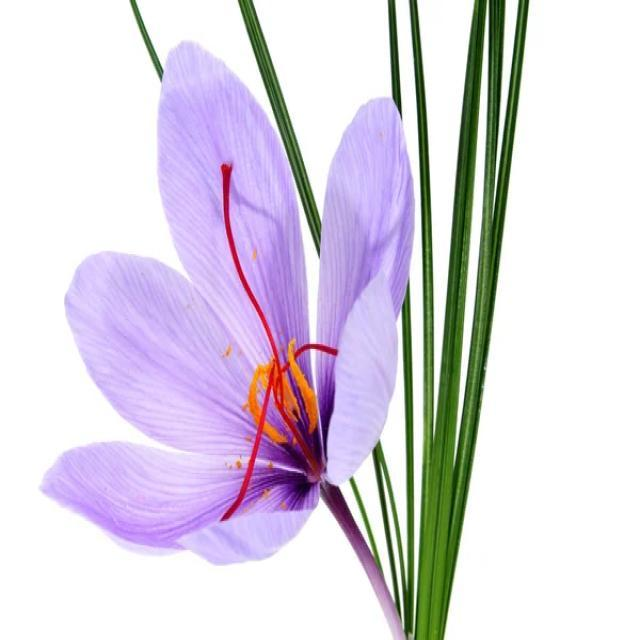Flower: (104, 112, 398, 556)
stigma: (213, 157, 283, 360), (270, 340, 344, 482), (219, 368, 275, 524)
